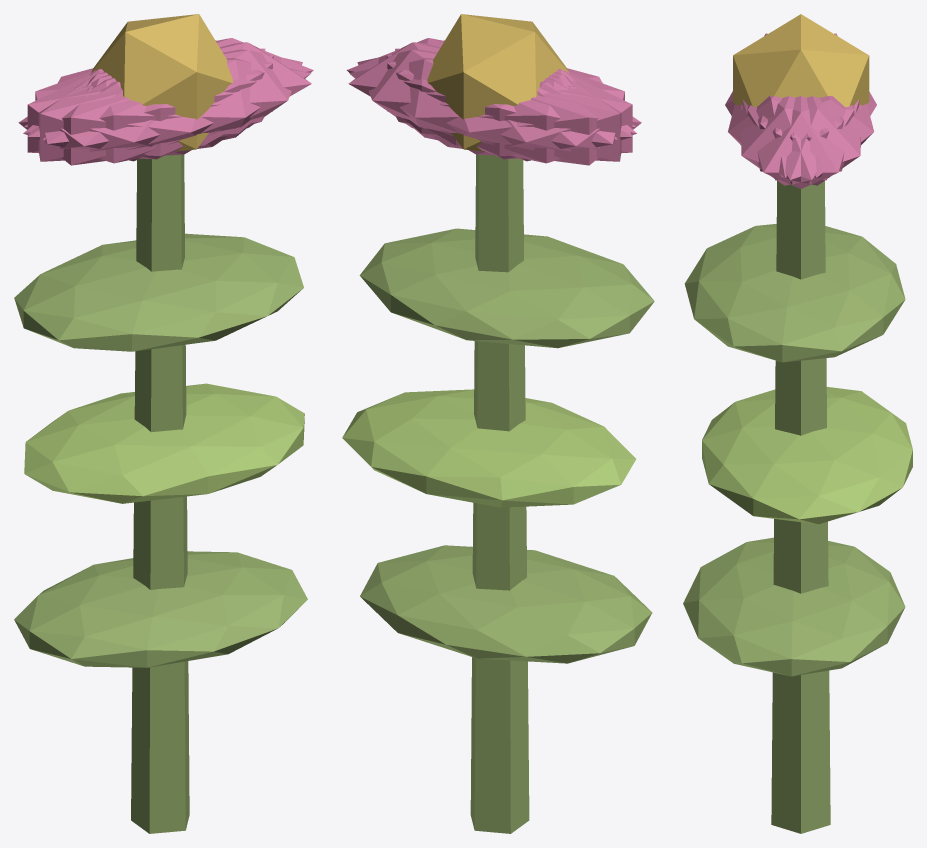
Rendered from thunbergia-erecta.glb.
The picture shows the model from 3 angles, left to right: view 1: azimuth 30°, elevation 25°; view 2: azimuth 150°, elevation 25°; view 3: azimuth 270°, elevation 25°; orthographic projection.
Visible parts, largest first — view 1: stem, leaf2, leaf0, leaf1, center, petal1, petal6, petal2, petal5, petal7, petal0, petal4 (+2 smaller); view 2: stem, leaf2, leaf1, leaf0, center, petal8, petal3, petal7, petal4, petal2, petal0, petal5 (+2 smaller); view 3: stem, leaf2, leaf1, leaf0, center, petal0, petal5, petal4, petal1, petal8.
Part boxes in pixels (x1,y1,x2,y2): stem: (131,154,189,833); leaf2: (14,233,303,351); leaf0: (14,551,307,667); leaf1: (24,383,304,503); center: (91,14,233,151); petal1: (23,57,310,163); petal6: (18,70,226,165); petal2: (38,48,265,161); petal5: (42,49,302,156); petal7: (27,54,273,159); petal0: (91,42,311,145); petal4: (24,38,313,137); stem: (470,154,529,833); leaf2: (359,228,654,348); leaf1: (342,389,636,507); leaf0: (360,545,652,663); center: (427,14,568,151); petal8: (349,57,636,163); petal3: (433,70,641,165); petal7: (395,48,621,161); petal4: (357,49,617,156); petal2: (386,54,632,159); petal0: (348,42,569,145); petal5: (346,38,635,137); stem: (771,180,830,833); leaf2: (684,224,905,362); leaf1: (702,387,912,524); leaf0: (683,537,905,676); center: (733,14,869,107); petal0: (742,96,859,188); petal5: (741,96,854,185); petal4: (747,96,861,185); petal1: (728,96,843,177); petal8: (758,96,874,177).
Size of the model in its own units: 0.1452 by 0.3912 by 0.1033.
